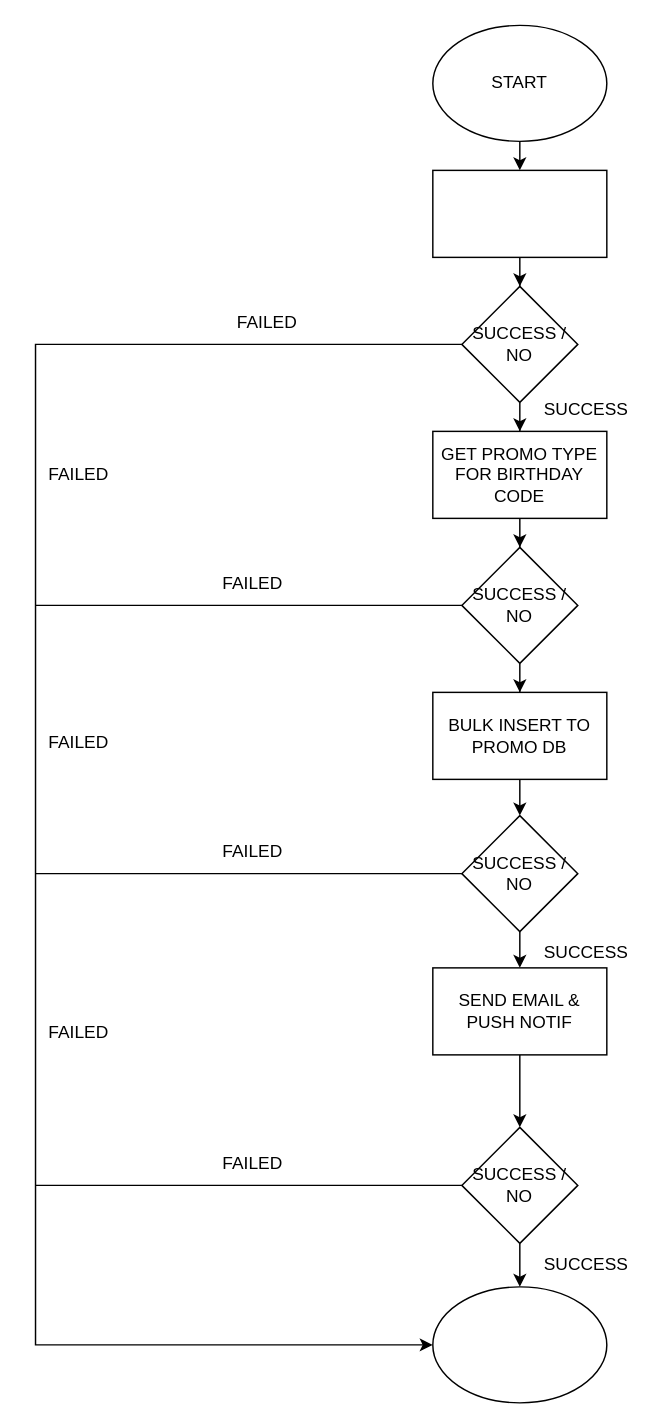
Some shapes in this 655 by 1428 pixel diagram are drawn without their labels. Here are the shapes that lost their labels. From the top down, the centre of each, then its label:
At pixel 519 213: "GET LIST OF USER WHOSE BIRTHDAY TODAY".
At pixel 519 1344: "END".
